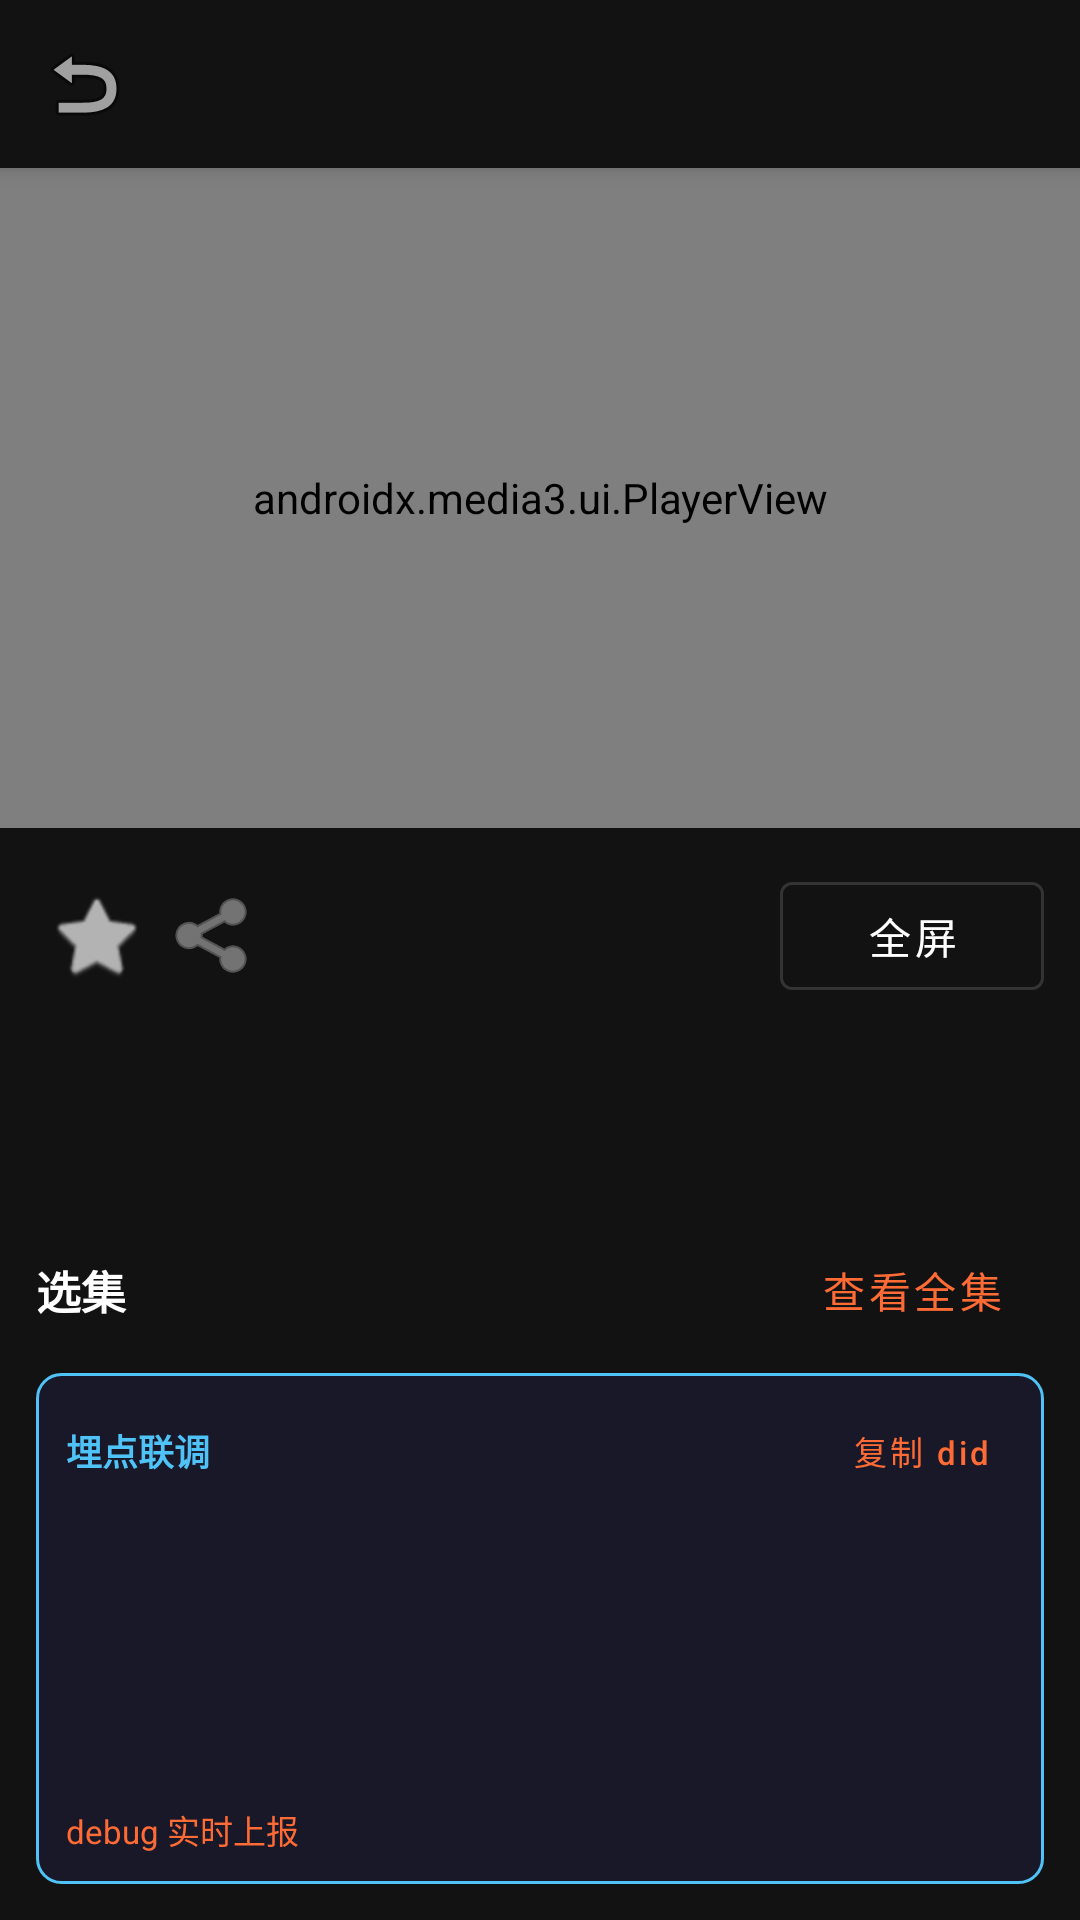

Screen size 1080x1920. Icon name, then its center in pixels as [x,y]:
分享: [211,935]
